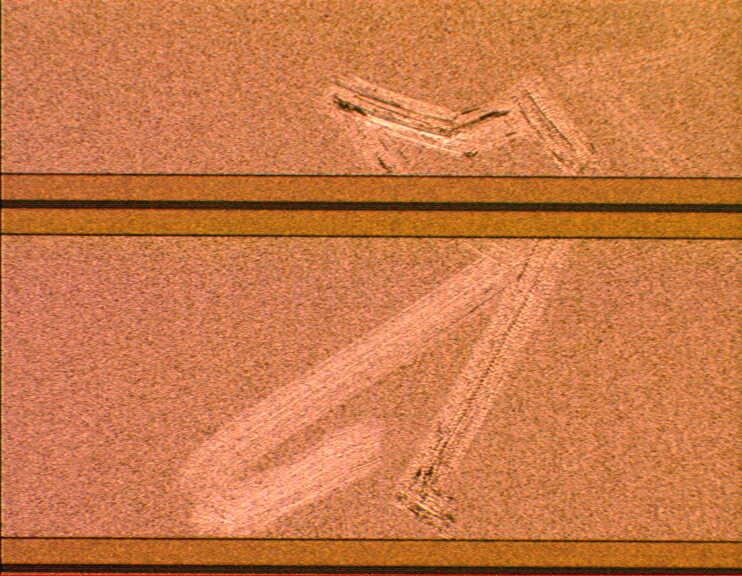SCRATCH: (166, 23, 722, 541)
